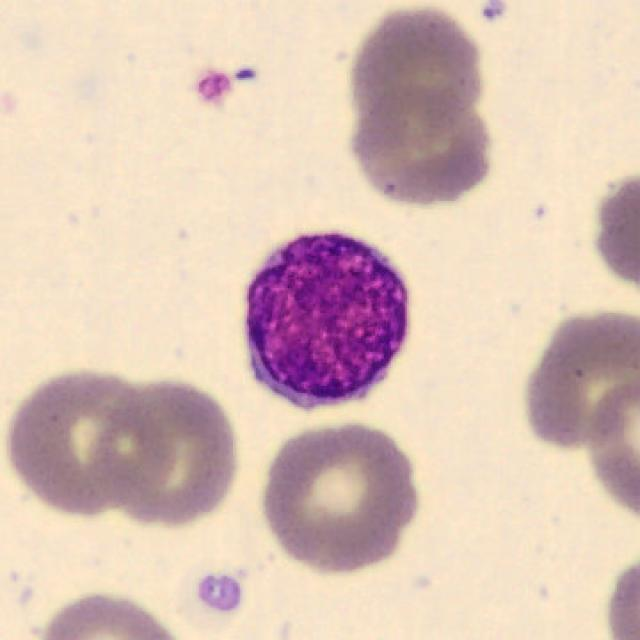Linfocito: (244, 233, 411, 409)
